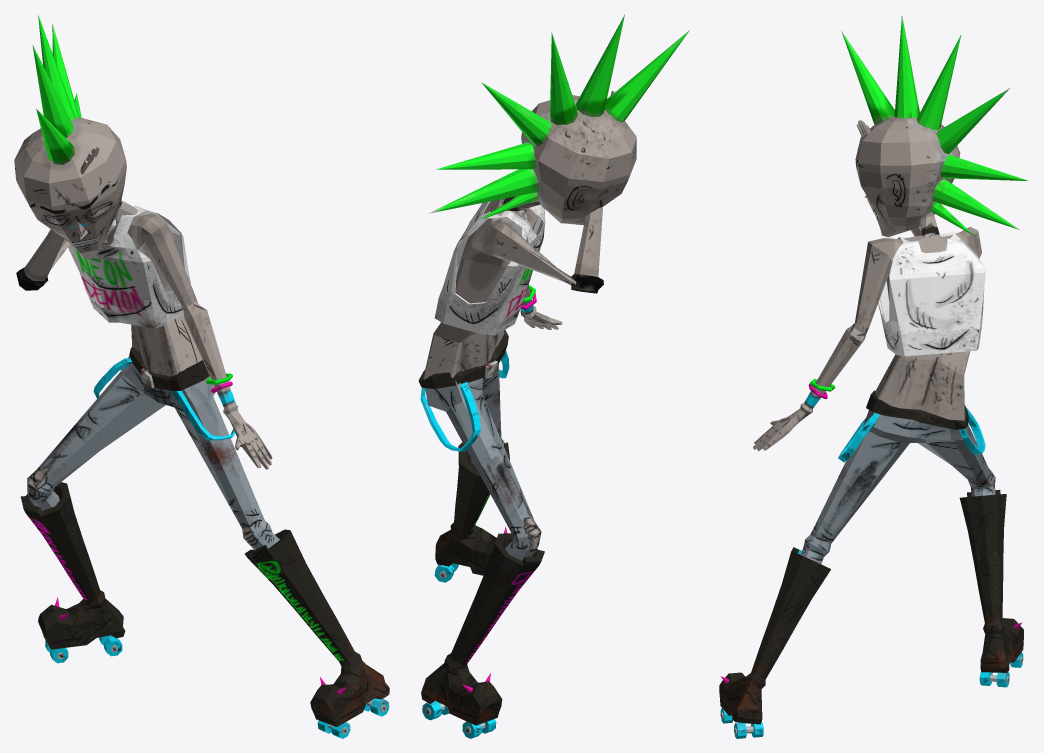
File: punkAnimation_000069.obj
3 renders of one model, left to right at view 1: azimuth 30°, elevation 25°; view 2: azimuth 150°, elevation 25°; view 3: azimuth 270°, elevation 25°, orthographic. The views are drawn at different scales.
Visible parts, largest first — view 1: Cube.004_Cube.003; view 2: Cube.004_Cube.003; view 3: Cube.004_Cube.003.
Part boxes in pixels (left/top/right/bottom): Cube.004_Cube.003: left=14, top=14, right=389, bottom=738; Cube.004_Cube.003: left=418, top=14, right=689, bottom=738; Cube.004_Cube.003: left=719, top=15, right=1028, bottom=738.
Size of the model in its own units: 3.09 by 6.72 by 3.07.
